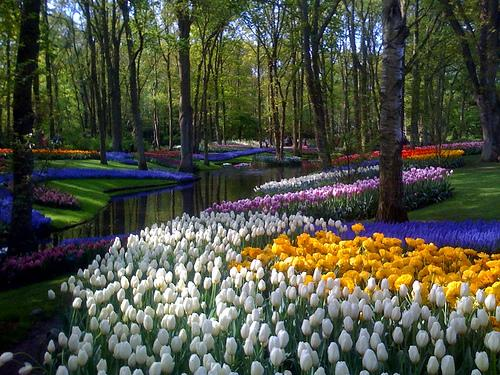tulip: (360, 348, 384, 371), (483, 325, 500, 356), (187, 312, 204, 339), (450, 311, 468, 335), (243, 335, 260, 360), (295, 316, 314, 338), (218, 303, 241, 321), (296, 348, 313, 371), (146, 355, 165, 375), (268, 349, 286, 369), (116, 336, 132, 358), (442, 352, 457, 375), (161, 352, 177, 373), (341, 293, 356, 315), (326, 295, 341, 317), (473, 350, 491, 368), (431, 289, 448, 308), (322, 317, 338, 337), (152, 330, 168, 350), (405, 347, 423, 364), (196, 339, 212, 358), (163, 312, 178, 332), (431, 318, 444, 341), (443, 324, 457, 345), (359, 302, 372, 324), (326, 341, 341, 360), (455, 293, 469, 313), (67, 331, 81, 351), (170, 334, 184, 354), (412, 279, 424, 302), (210, 262, 223, 283), (398, 308, 411, 329), (415, 331, 431, 348), (221, 336, 238, 352), (246, 360, 264, 375), (266, 335, 285, 349), (476, 308, 489, 328), (392, 325, 405, 345), (335, 359, 351, 375), (371, 321, 386, 338), (184, 354, 201, 369), (340, 333, 354, 351), (382, 297, 394, 316), (251, 309, 266, 324), (425, 355, 440, 370), (285, 286, 299, 302), (309, 288, 322, 305), (271, 288, 282, 308), (377, 340, 387, 362), (141, 311, 153, 329), (485, 292, 495, 313), (248, 321, 261, 337), (205, 355, 218, 371), (66, 352, 78, 369), (100, 317, 113, 332), (96, 357, 108, 373), (380, 277, 392, 292), (476, 288, 486, 306), (203, 319, 215, 334), (343, 315, 354, 331), (310, 332, 321, 348), (244, 296, 256, 310), (77, 348, 89, 362), (236, 322, 247, 337), (83, 329, 93, 344), (217, 363, 229, 375), (275, 322, 286, 335), (360, 328, 371, 341), (120, 364, 133, 375), (270, 310, 281, 321), (178, 267, 189, 277), (289, 302, 297, 313)
